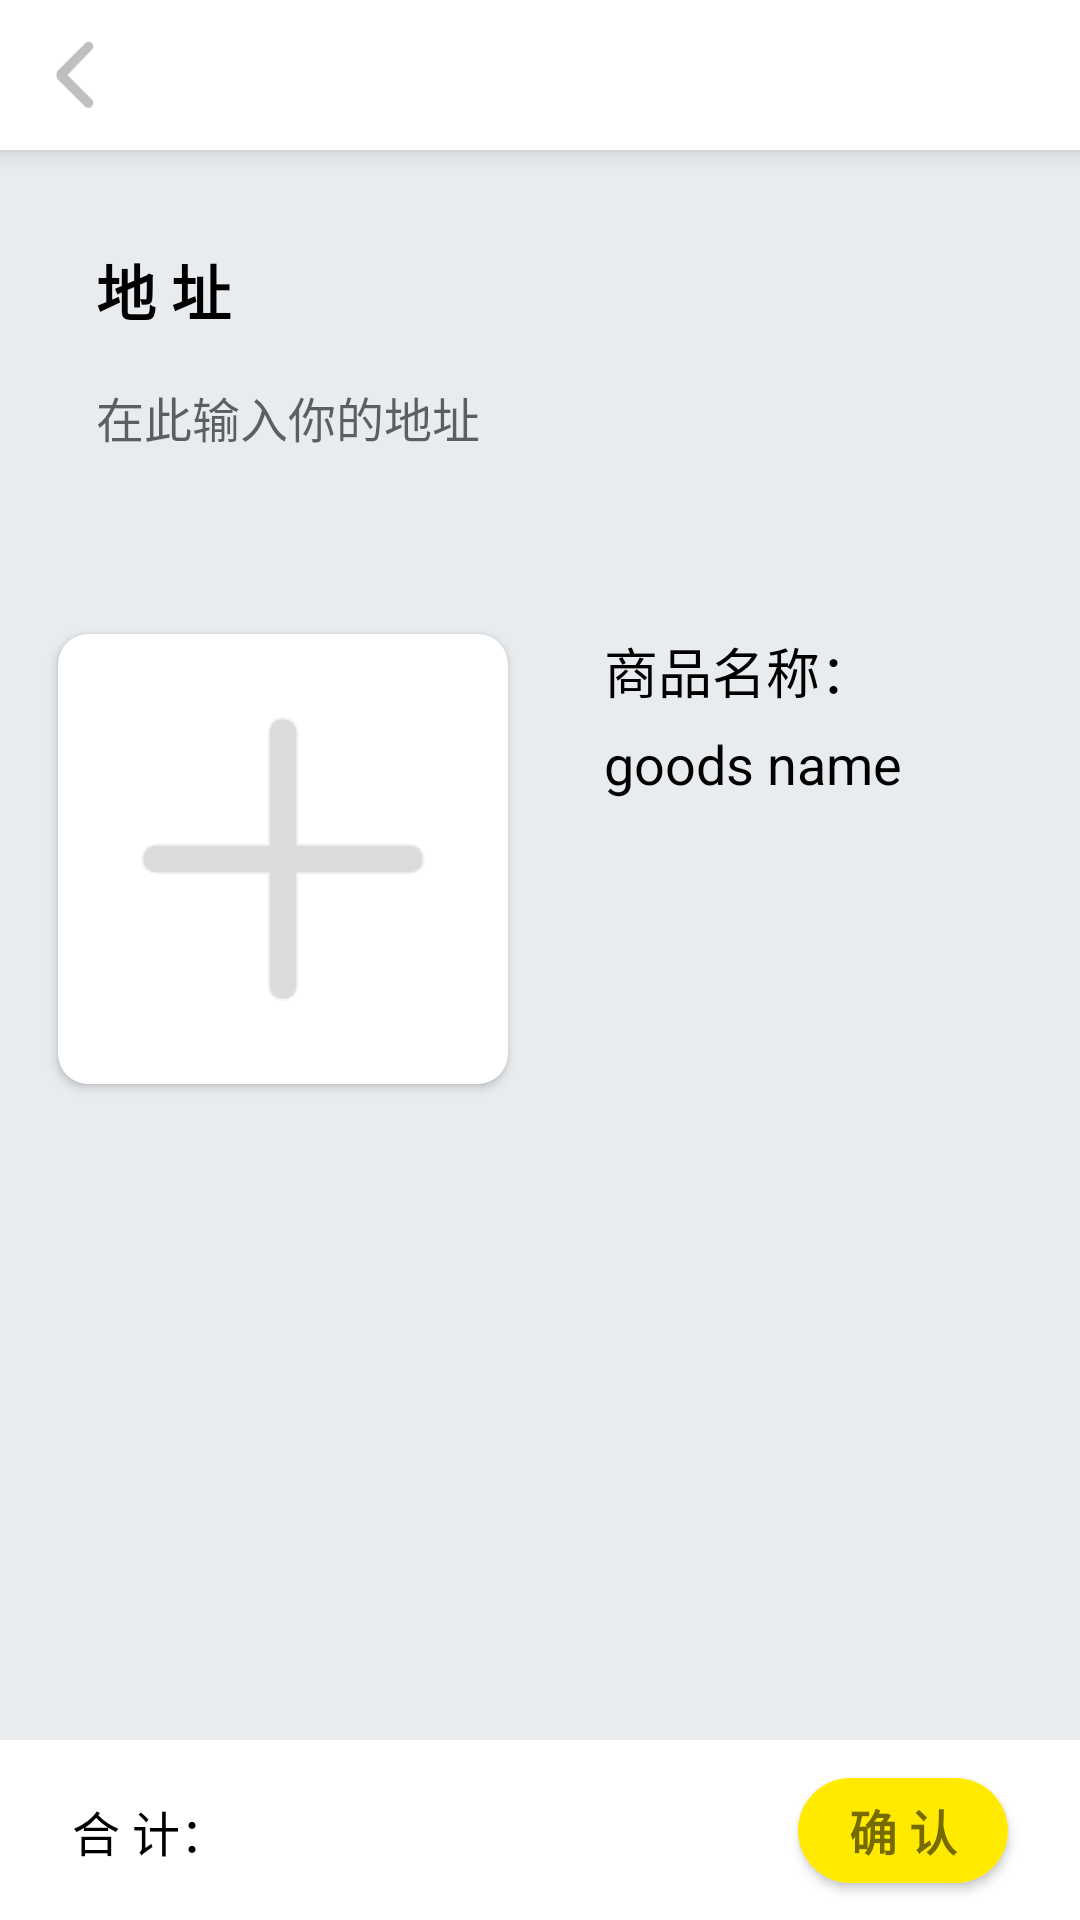

Named icons in this screenshot (1080x1920) and their bounding boxes, (x1, y1, x2, y2):
back: (56, 42, 93, 108)
